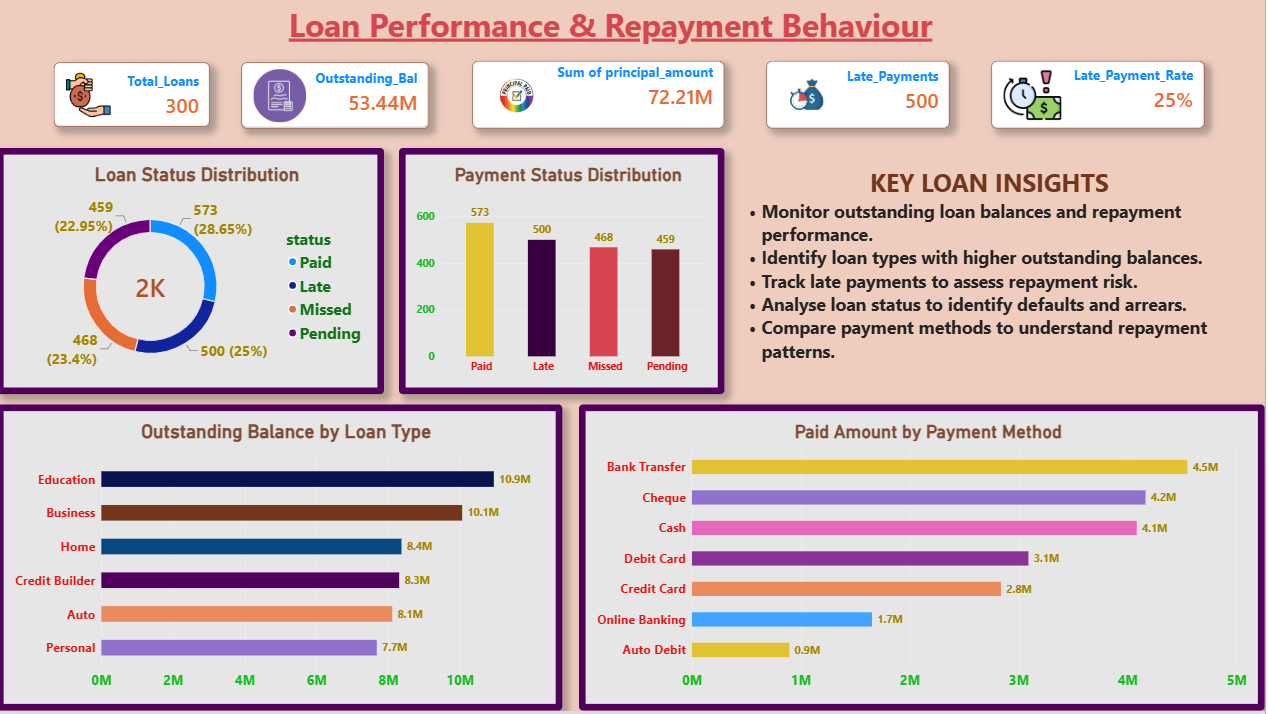

The page's visual inventory and layout, read from the dashboard file:
{"tool":"powerbi","page":{"name":"Loan Performance & Repayment Behaviour","canvas":[1920,1080],"ordinal":4},"visuals":[{"type":"cardVisual","fields":{"Data":["loans.Total_Loans"]},"box":[86.3,97.7,236.2,97.7],"z":0},{"type":"cardVisual","fields":{"Data":["Sum(loans.principal_amount)"]},"box":[720,95.4,381.6,102.2],"z":1000},{"type":"cardVisual","fields":{"Data":["loan_payments.Late_Payment_Rate"]},"box":[1505.9,95.4,322.5,102.2],"z":2000},{"type":"cardVisual","fields":{"Data":["Sum(loans.outstanding_balance)"]},"box":[370.2,97.7,283.9,99.9],"z":3000},{"type":"cardVisual","fields":{"Data":["loan_payments.Late_Payments"]},"box":[1165.2,95.4,277.1,102.2],"z":4000},{"type":"textbox","box":[349.8,6.8,1158.4,68.1],"z":5000},{"type":"donutChart","title":"Loan Status Distribution","fields":{"Category":["loan_payments.status"],"Y":["CountNonNull(loan_payments.loan_id)"]},"box":[0,227.1,586,372.5],"z":6000},{"type":"clusteredBarChart","title":"Outstanding Balance by Loan Type","fields":{"Category":["loans.loan_type"],"Y":["Sum(loans.outstanding_balance)"]},"box":[0,615.5,856.3,463.3],"z":7000},{"type":"clusteredColumnChart","title":"Payment Status Distribution","fields":{"Category":["loan_payments.status"],"Y":["CountNonNull(loan_payments.loan_id)"]},"box":[608.7,227.1,492.9,372.5],"z":8000},{"type":"clusteredBarChart","title":"Paid Amount by Payment Method","fields":{"Category":["loan_payments.payment_method"],"Y":["Sum(loan_payments.paid_amount)"]},"box":[881.3,615.5,1038,463.3],"z":9000},{"type":"textbox","box":[1117.5,254.4,770,345.2],"z":10000}]}

Visuals, with their boxes in screenshot pixels (x1, y1, x2, y2), scaled from the page's 1920x1080 canvas onto the 1268x714 screenshot:
cardVisual - loans.Total_Loans: {"x1": 57, "y1": 65, "x2": 213, "y2": 129}
cardVisual - Sum(loans.principal_amount): {"x1": 476, "y1": 63, "x2": 728, "y2": 131}
cardVisual - loan_payments.Late_Payment_Rate: {"x1": 995, "y1": 63, "x2": 1208, "y2": 131}
cardVisual - Sum(loans.outstanding_balance): {"x1": 244, "y1": 65, "x2": 432, "y2": 131}
cardVisual - loan_payments.Late_Payments: {"x1": 770, "y1": 63, "x2": 953, "y2": 131}
textbox: {"x1": 231, "y1": 4, "x2": 996, "y2": 50}
"Loan Status Distribution" donutChart: {"x1": 0, "y1": 150, "x2": 387, "y2": 396}
"Outstanding Balance by Loan Type" clusteredBarChart: {"x1": 0, "y1": 407, "x2": 566, "y2": 713}
"Payment Status Distribution" clusteredColumnChart: {"x1": 402, "y1": 150, "x2": 728, "y2": 396}
"Paid Amount by Payment Method" clusteredBarChart: {"x1": 582, "y1": 407, "x2": 1267, "y2": 713}
textbox: {"x1": 738, "y1": 168, "x2": 1247, "y2": 396}
